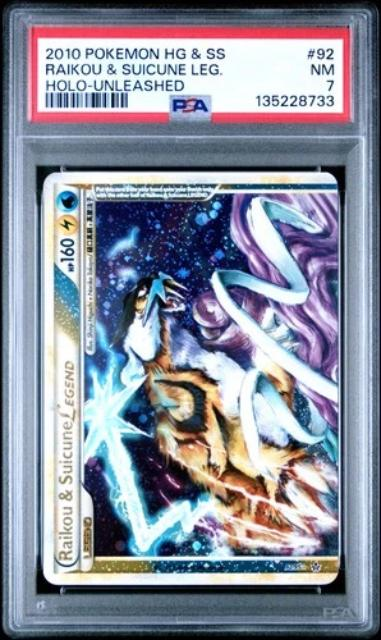Card: (39, 168, 344, 589)
Name: (54, 348, 80, 569)
